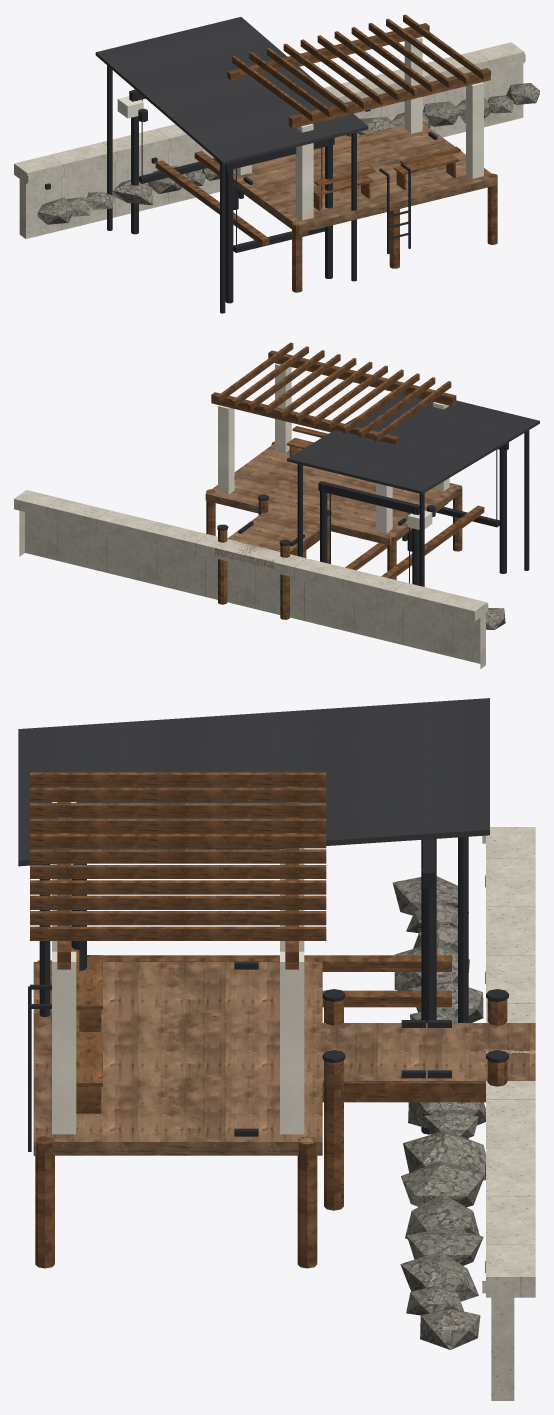
Rendered from med_dock_pergola_lift.fbx.
The picture shows the model from 3 angles, top to bottom: view 1: azimuth 30°, elevation 25°; view 2: azimuth 150°, elevation 25°; view 3: azimuth 270°, elevation 25°; orthographic projection. The views are drawn at different scales.
Visible parts, largest first — view 1: med_dock_pergola_lift_LOD0; view 2: med_dock_pergola_lift_LOD0; view 3: med_dock_pergola_lift_LOD0.
Boxes of the visible parts, <box> form: med_dock_pergola_lift_LOD0: <box>14,14,539,313</box>; med_dock_pergola_lift_LOD0: <box>14,342,539,668</box>; med_dock_pergola_lift_LOD0: <box>18,698,535,1400</box>.
Size of what is drawn, in the model's own units: 14.25 by 4.82 by 6.8.
1 material, 1 textured.
